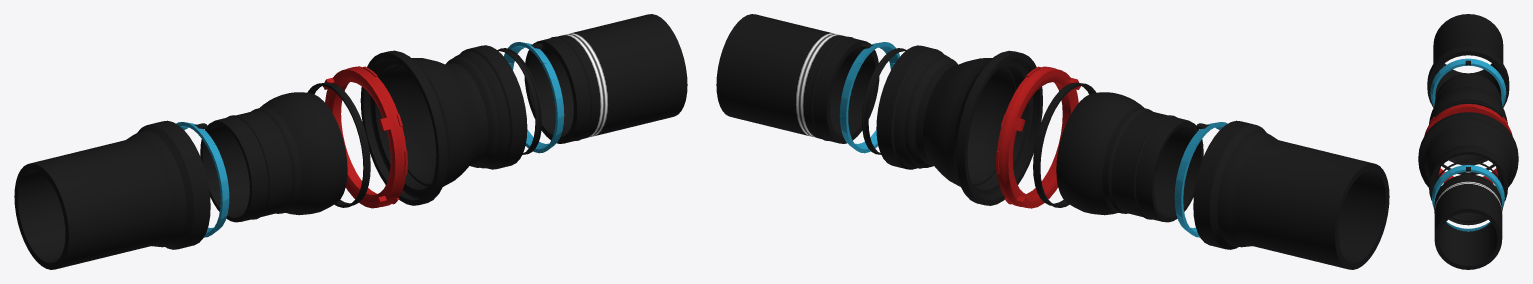
Rendered from USPipe_Ensamble.gltf.
3 views of the same model, side by side, from view 1: azimuth 30°, elevation 25°; view 2: azimuth 150°, elevation 25°; view 3: azimuth 270°, elevation 25° (orthographic). The views are drawn at different scales.
Visible parts, largest first — view 1: M_Piece_03; view 2: M_Piece_03; view 3: M_Piece_03.
Boxes of the visible parts, bbox=[...] form: M_Piece_03: bbox=[14, 14, 687, 269]; M_Piece_03: bbox=[716, 14, 1389, 269]; M_Piece_03: bbox=[1418, 14, 1518, 269].
Size of the model in its own units: 4.11 by 0.9019 by 0.8997.
Materials: 1 (1 with a texture image).
